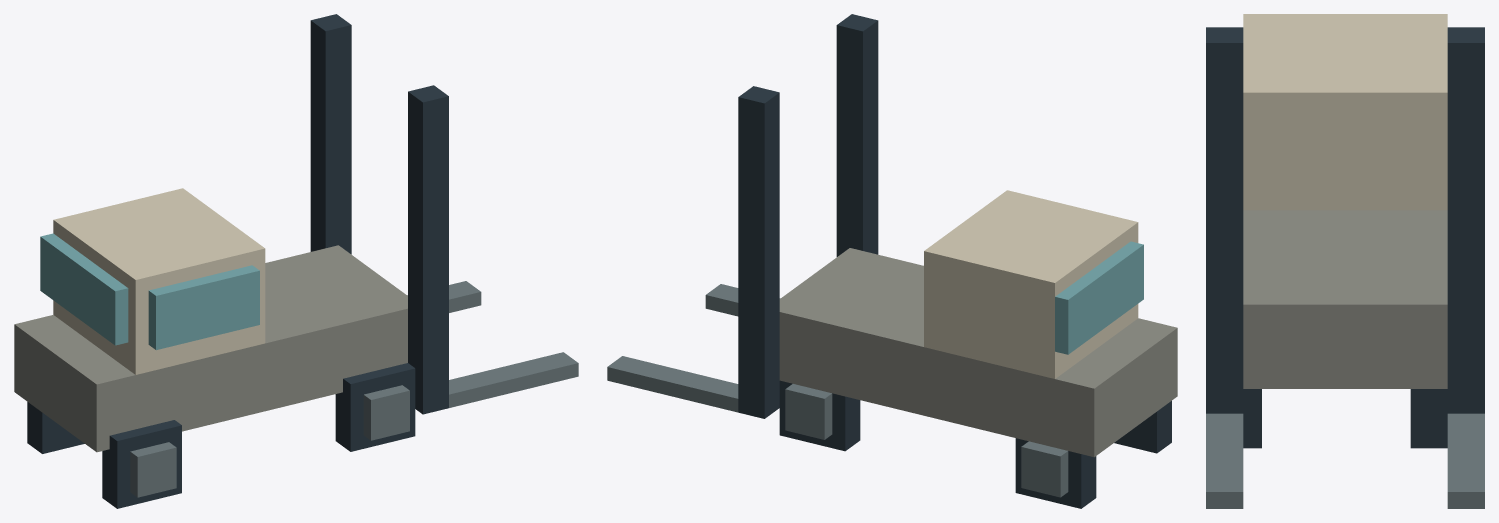
Rendered from manufacturing-10.glb.
3 renders of one model, left to right at view 1: azimuth 30°, elevation 25°; view 2: azimuth 150°, elevation 25°; view 3: azimuth 270°, elevation 25°, orthographic. The views are drawn at different scales.
Visible parts, largest first — view 1: Forklift; view 2: Forklift; view 3: Forklift.
Part boxes in pixels (x1=…): Forklift: x1=14, y1=14, x2=578, y2=508; Forklift: x1=607, y1=14, x2=1177, y2=508; Forklift: x1=1206, y1=14, x2=1484, y2=508.
Size of the model in its own units: 2.88 by 2 by 1.2.
